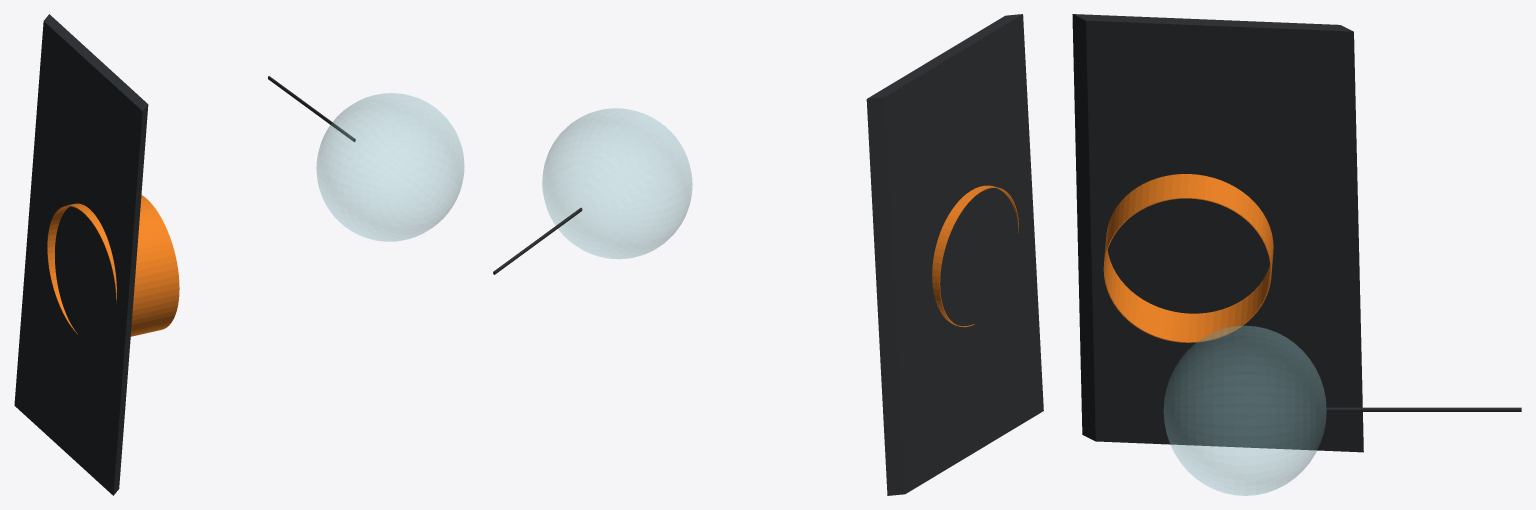
File: tinker.obj
3 renders of one model, left to right at view 1: azimuth 30°, elevation 25°; view 2: azimuth 150°, elevation 25°; view 3: azimuth 270°, elevation 25°, orthographic. The views are drawn at different scales.
Parts seen in each view (by area): view 1: group_0_2829873, group_0_-1028593425, group_0_16089887; view 2: group_0_2829873, group_0_-1028593425, group_0_16089887; view 3: group_0_2829873, group_0_-1028593425, group_0_16089887.
Boxes of the visible parts, x1,y1,x2,y2 form: group_0_2829873: [14, 14, 355, 495]; group_0_-1028593425: [316, 93, 464, 241]; group_0_16089887: [47, 195, 179, 336]; group_0_2829873: [493, 14, 1043, 495]; group_0_-1028593425: [542, 108, 692, 258]; group_0_16089887: [932, 185, 1018, 327]; group_0_2829873: [1072, 14, 1521, 452]; group_0_-1028593425: [1164, 326, 1326, 495]; group_0_16089887: [1103, 174, 1273, 342].
Bounding box in the file's own units: 66.94 × 59.18 × 55.32.
